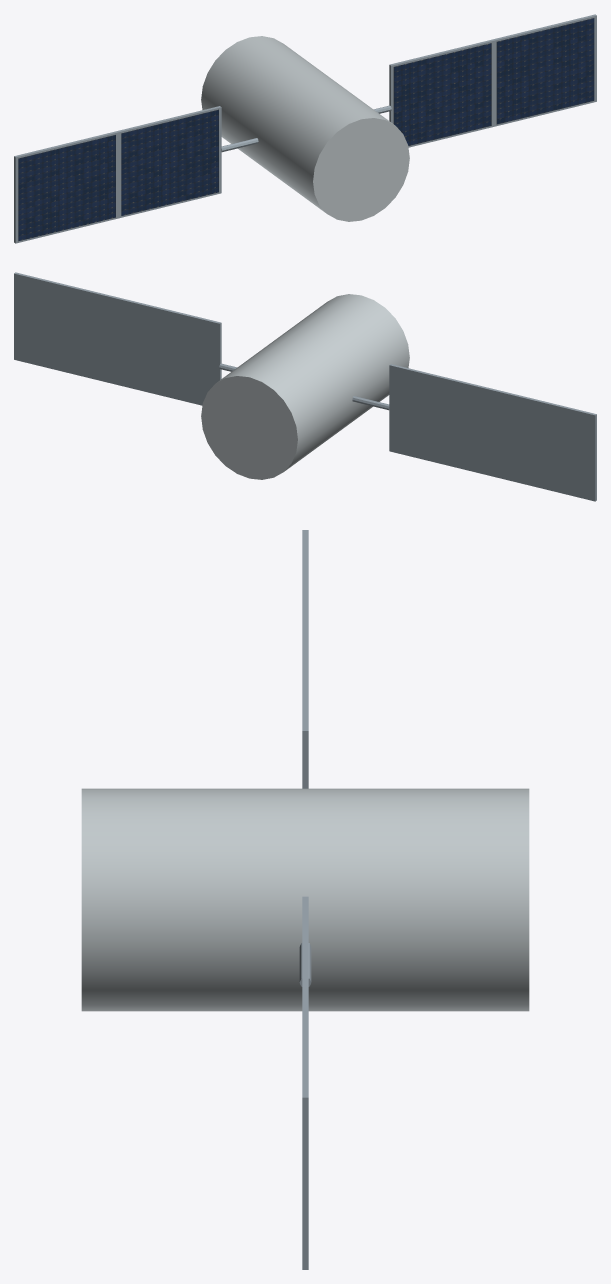
Rendered from ref-prisma-36599.glb.
3 renders of one model, top to bottom at view 1: azimuth 30°, elevation 25°; view 2: azimuth 150°, elevation 25°; view 3: azimuth 270°, elevation 25°, orthographic. The views are drawn at different scales.
Visible parts, largest first — view 1: Photovoltaic laminates (×4), Spacecraft body, Array frame (×4); view 2: Array frame (×4), Spacecraft body; view 3: Spacecraft body, Array frame (×2).
Part boxes in pixels (box(x1,y1,x2,y2)): Photovoltaic laminates (×4): box(18, 18, 594, 241); Spacecraft body: box(201, 36, 409, 221); Array frame (×4): box(14, 14, 596, 243); Array frame (×4): box(14, 272, 596, 501); Spacecraft body: box(201, 294, 409, 479); Spacecraft body: box(81, 788, 529, 1011); Array frame (×2): box(302, 630, 308, 1269).
Size of the model in its own units: 12 by 2 by 4.
Materials: 3 (1 with a texture image).
